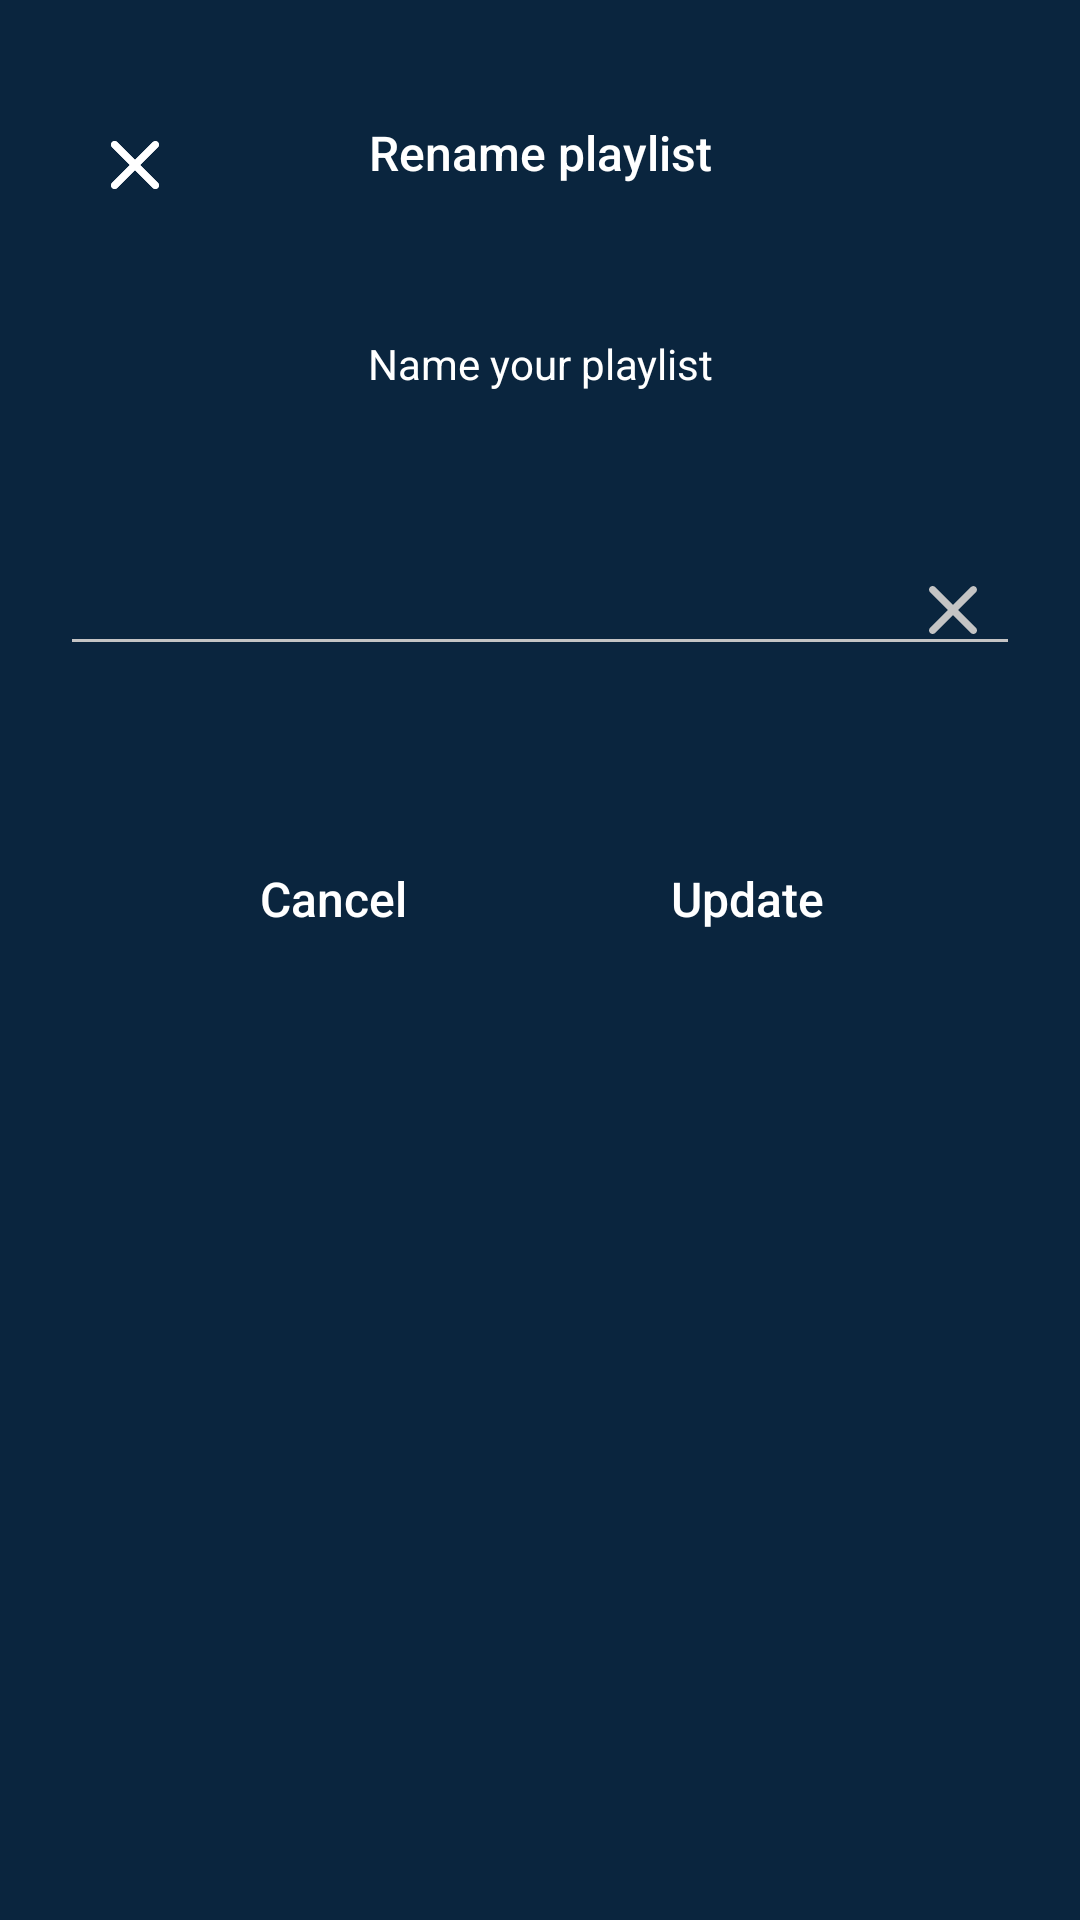

Named icons in this screenshot (1080px×1920px) and their centers, point (x, y):
Clear all: point (953, 610)
